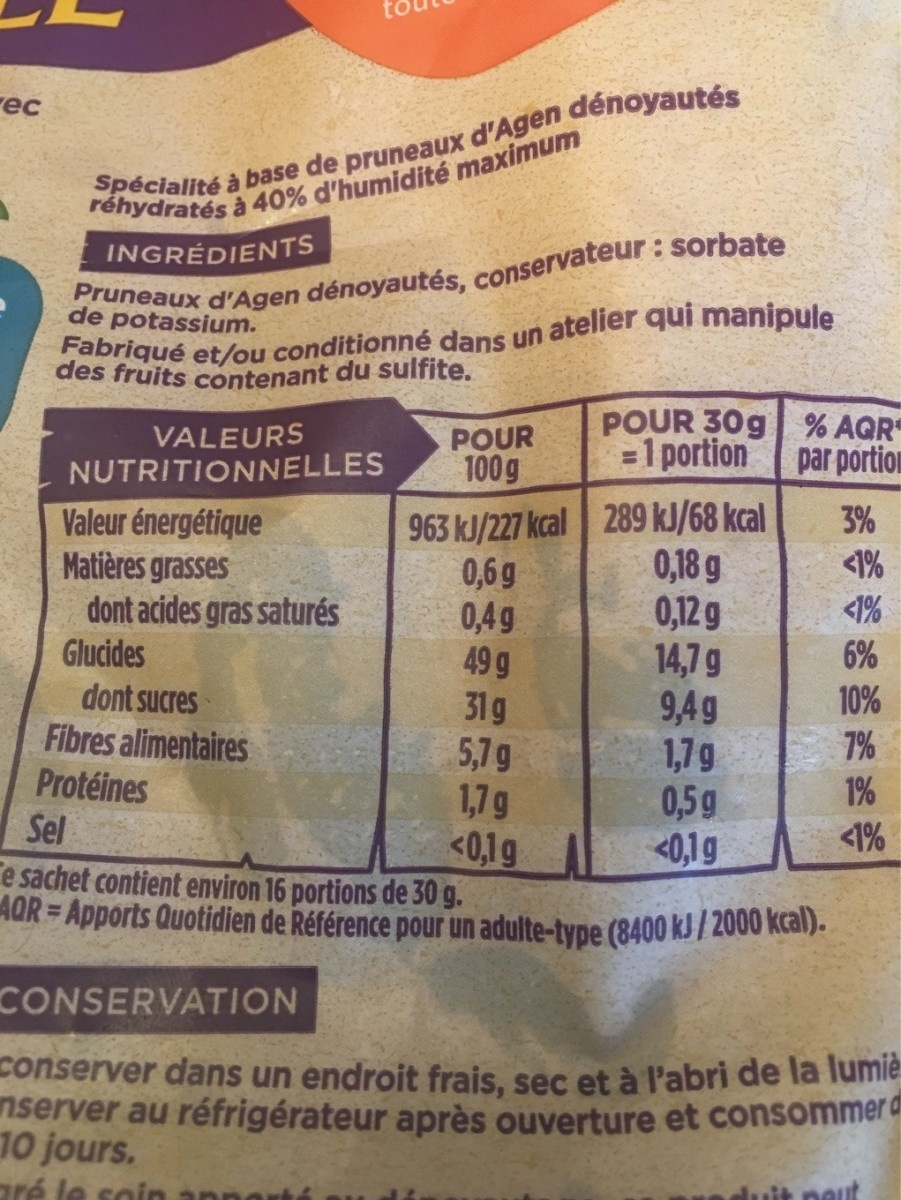column: (32, 411, 382, 876), (591, 407, 774, 871), (405, 411, 578, 873), (792, 407, 901, 866)
table: (43, 408, 901, 871)
